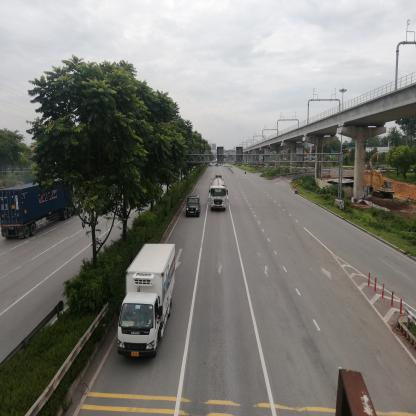bus: (1, 179, 84, 239)
car: (187, 196, 201, 219)
motorbike: (296, 186, 300, 195)
truck: (115, 245, 177, 360), (212, 174, 230, 212)
